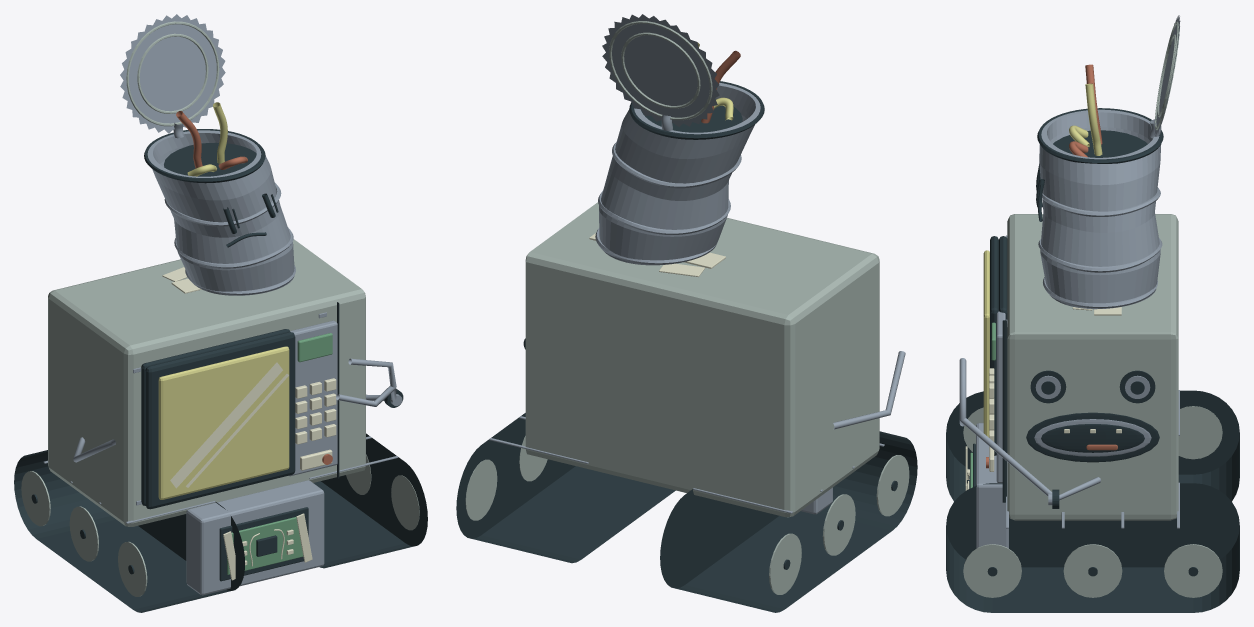
Rendered from neptr.glb.
3 renders of one model, left to right at view 1: azimuth 30°, elevation 25°; view 2: azimuth 150°, elevation 25°; view 3: azimuth 270°, elevation 25°, orthographic. The views are drawn at different scales.
Parts seen in each view (by area): view 1: NEPTR body NEPTR sage enamel, NEPTR body NEPTR ink and rubber, NEPTR head NEPTR tin blue grey, NEPTR head NEPTR warm microwave glass.001, NEPTR body NEPTR tin blue grey, NEPTR head NEPTR ink and rubber.001, NEPTR body NEPTR ivory keys, NEPTR body NEPTR circuit board, NEPTR head NEPTR ink and rubber, NEPTR head NEPTR ivory keys, NEPTR head NEPTR sage enamel, NEPTR head NEPTR muted red wire (+1 smaller); view 2: NEPTR body NEPTR sage enamel, NEPTR body NEPTR ink and rubber, NEPTR head NEPTR tin blue grey, NEPTR head NEPTR ink and rubber, NEPTR body NEPTR tin blue grey, NEPTR head NEPTR sage enamel, NEPTR body NEPTR ivory keys; view 3: NEPTR body NEPTR sage enamel, NEPTR body NEPTR ink and rubber, NEPTR head NEPTR tin blue grey, NEPTR body NEPTR tin blue grey, NEPTR head NEPTR ink and rubber, Mouth inside, Mouth outline, NEPTR head NEPTR warm microwave glass.001, Mouth rim, NEPTR head NEPTR ink and rubber.001, NEPTR body NEPTR ivory keys, NEPTR head NEPTR warm microwave glass (+4 smaller).
Boxes of the visible parts, x1,y1,x2,y2 form: NEPTR body NEPTR sage enamel: [21, 239, 419, 596]; NEPTR body NEPTR ink and rubber: [14, 302, 427, 612]; NEPTR head NEPTR tin blue grey: [120, 14, 295, 295]; NEPTR head NEPTR warm microwave glass.001: [158, 346, 289, 499]; NEPTR body NEPTR tin blue grey: [43, 312, 402, 595]; NEPTR head NEPTR ink and rubber.001: [145, 332, 295, 509]; NEPTR body NEPTR ivory keys: [162, 267, 336, 580]; NEPTR body NEPTR circuit board: [227, 333, 332, 574]; NEPTR head NEPTR ink and rubber: [144, 129, 265, 183]; NEPTR head NEPTR ivory keys: [170, 362, 288, 488]; NEPTR head NEPTR sage enamel: [126, 21, 219, 126]; NEPTR head NEPTR muted red wire: [176, 111, 247, 169]; NEPTR body NEPTR sage enamel: [465, 202, 909, 594]; NEPTR body NEPTR ink and rubber: [456, 338, 917, 612]; NEPTR head NEPTR tin blue grey: [595, 14, 760, 265]; NEPTR head NEPTR ink and rubber: [629, 81, 764, 139]; NEPTR body NEPTR tin blue grey: [489, 351, 905, 514]; NEPTR head NEPTR sage enamel: [609, 21, 712, 120]; NEPTR body NEPTR ivory keys: [589, 233, 725, 276]; NEPTR body NEPTR sage enamel: [963, 214, 1222, 597]; NEPTR body NEPTR ink and rubber: [946, 236, 1239, 612]; NEPTR head NEPTR tin blue grey: [1038, 15, 1180, 309]; NEPTR body NEPTR tin blue grey: [959, 235, 1179, 548]; NEPTR head NEPTR ink and rubber: [1037, 108, 1163, 163]; Mouth inside: [1041, 424, 1144, 452]; Mouth outline: [1026, 412, 1159, 462]; NEPTR head NEPTR warm microwave glass.001: [983, 250, 989, 437]; Mouth rim: [1034, 419, 1151, 456]; NEPTR head NEPTR ink and rubber.001: [990, 236, 998, 455]; NEPTR body NEPTR ivory keys: [965, 307, 1121, 490]; NEPTR head NEPTR warm microwave glass: [1069, 83, 1102, 155].
Bounding box in the file's own units: 1.06 × 1.54 × 0.79.
